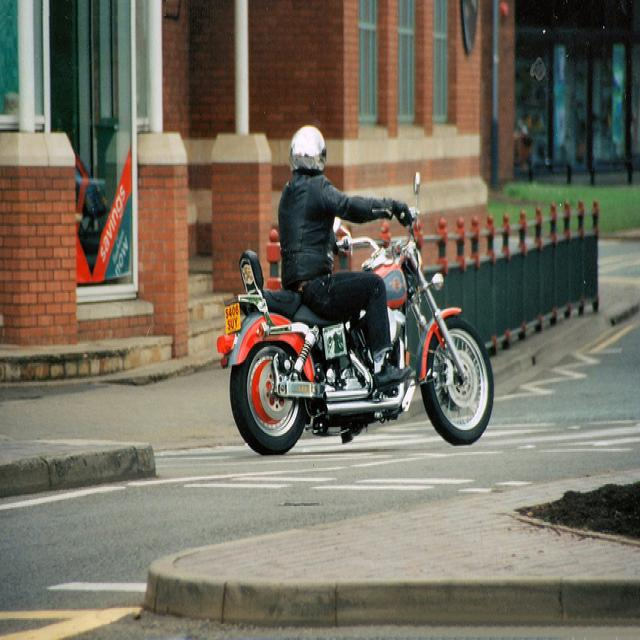motor: (224, 167, 494, 450)
